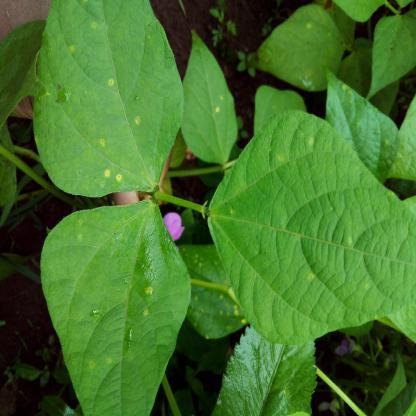Beans_Rust: (208, 111, 416, 345), (38, 199, 188, 416), (32, 0, 184, 195), (180, 31, 243, 166), (254, 6, 347, 89), (175, 239, 248, 340)
